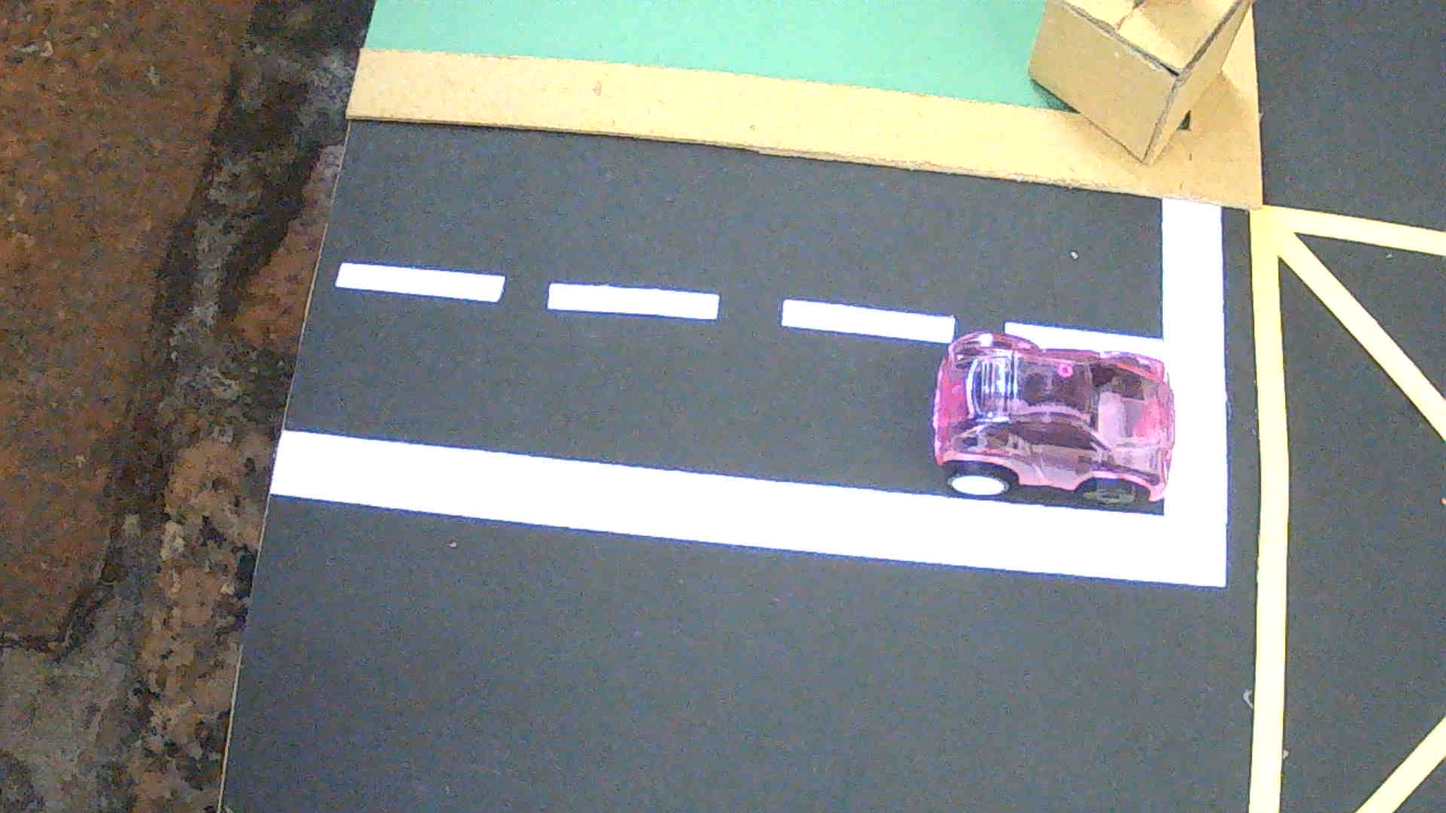Mobil ungu: (933, 332, 1174, 505)
